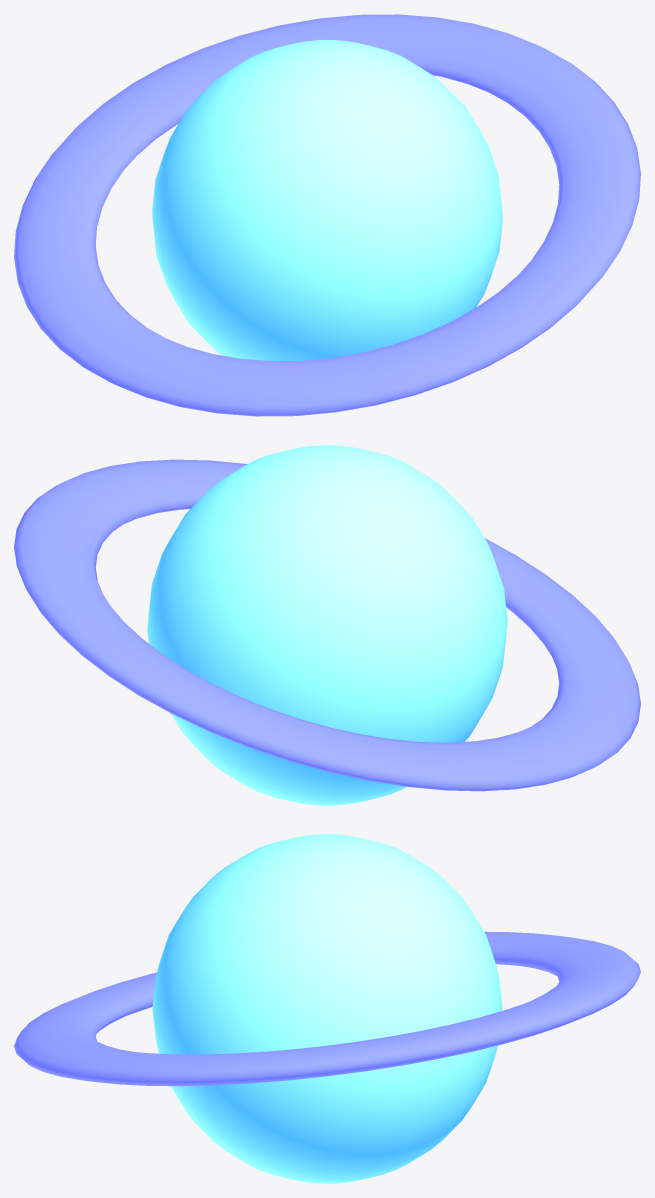
Rendered from planet.glb.
The picture shows the model from 3 angles, top to bottom: view 1: azimuth 30°, elevation 25°; view 2: azimuth 150°, elevation 25°; view 3: azimuth 270°, elevation 25°; orthographic projection. The views are drawn at different scales.
Parts seen in each view (by area): view 1: Sphere_0; view 2: Sphere_0; view 3: Sphere_0.
Boxes of the visible parts, left/top/right/bottom form: Sphere_0: left=14, top=14, right=640, bottom=416; Sphere_0: left=14, top=445, right=640, bottom=805; Sphere_0: left=14, top=834, right=640, bottom=1183.
Bounding box in the file's own units: 3.5 × 2 × 3.58.
